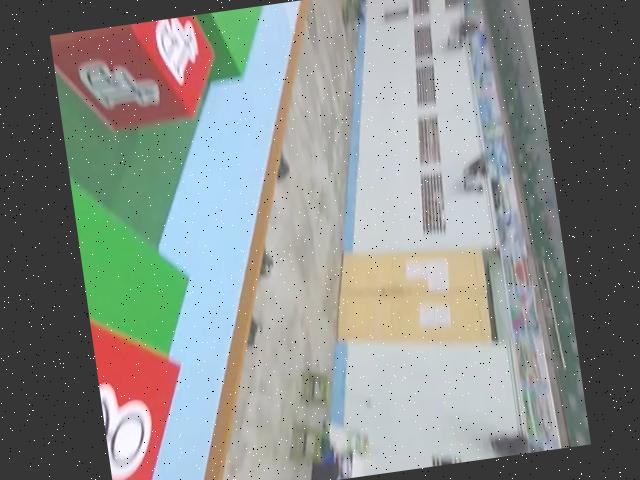R2 Real: (86, 288, 205, 480), (49, 13, 227, 141)
